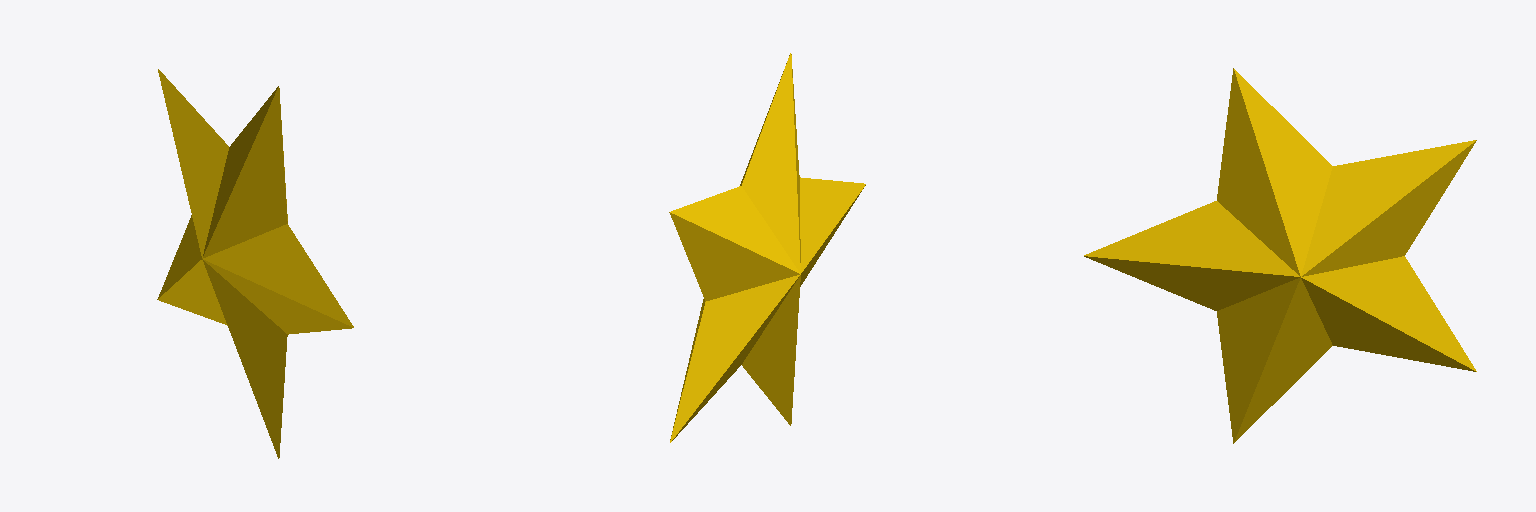
File: Star_01.obj
The picture shows the model from 3 angles: view 1: azimuth 30°, elevation 25°; view 2: azimuth 150°, elevation 25°; view 3: azimuth 270°, elevation 25°; orthographic projection.
Parts seen in each view (by area): view 1: pCylinder3; view 2: pCylinder3; view 3: pCylinder3.
Boxes of the visible parts, <box> form: pCylinder3: <box>157,69,353,458</box>; pCylinder3: <box>669,53,865,442</box>; pCylinder3: <box>1084,68,1476,443</box>.
Size of the model in its own units: 49.11 by 204 by 194.